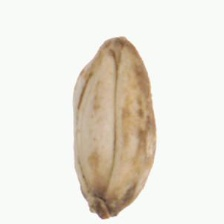L1: (84, 198, 124, 220), (96, 34, 136, 55)
L2: (72, 36, 156, 220)
